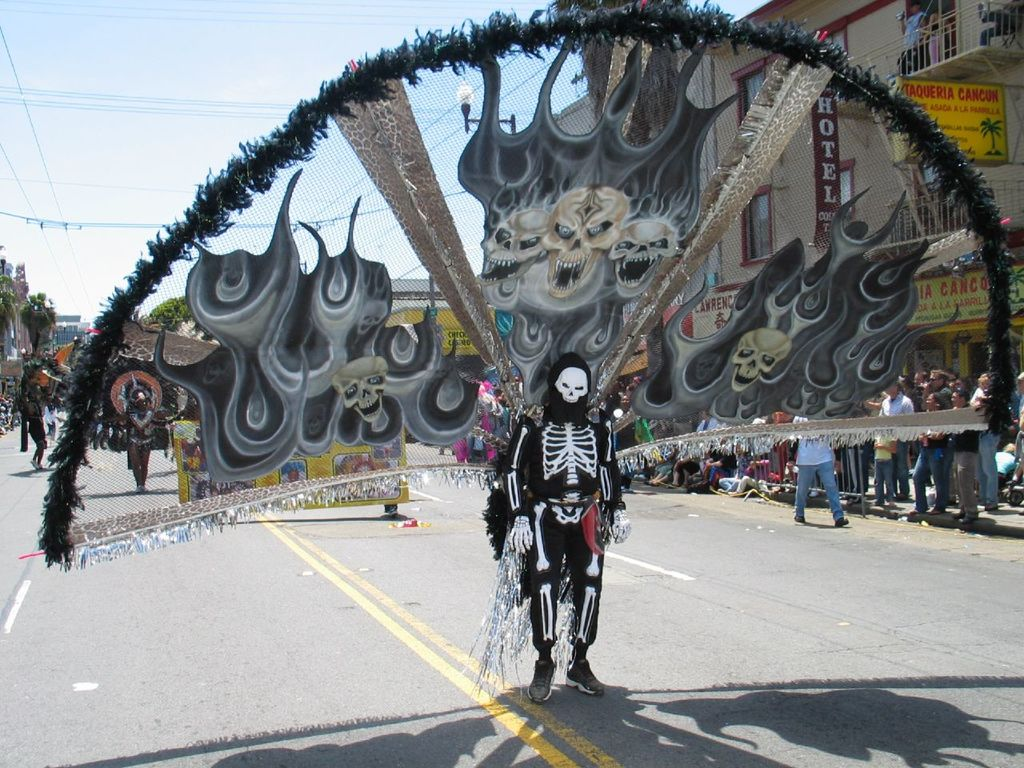Footwear: (562, 658, 607, 693), (529, 662, 554, 700)
